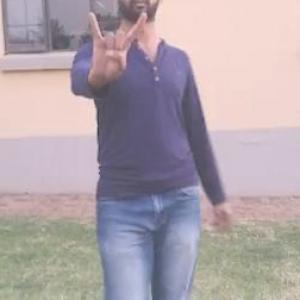takeoff-hand: (76, 0, 150, 92)
